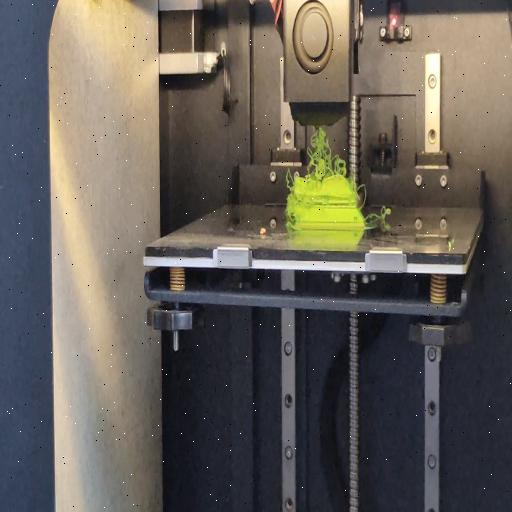spaghetti: (303, 126, 348, 182), (362, 206, 390, 226), (355, 181, 367, 207), (284, 218, 296, 230), (288, 165, 292, 193)
